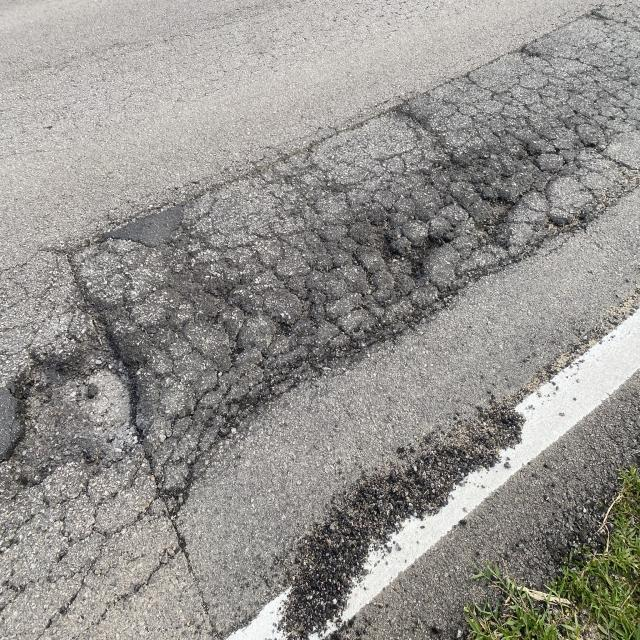pothole: (2, 335, 174, 519), (347, 209, 471, 323)
